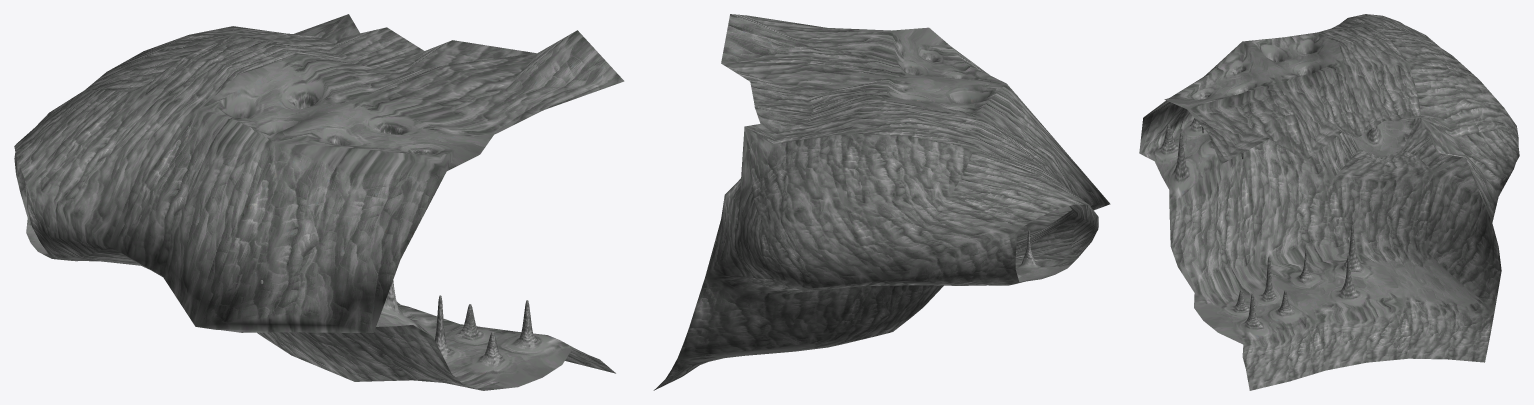
File: SWORDLIGHT20_PS-AREA05_03.fbx
3 renders of one model, left to right at view 1: azimuth 30°, elevation 25°; view 2: azimuth 150°, elevation 25°; view 3: azimuth 270°, elevation 25°, orthographic. The views are drawn at different scales.
Parts seen in each view (by area): view 1: SWORDLIGHT20_PS-AREA05_03; view 2: SWORDLIGHT20_PS-AREA05_03; view 3: SWORDLIGHT20_PS-AREA05_03.
Boxes of the visible parts, x1,y1,x2,y2 form: SWORDLIGHT20_PS-AREA05_03: (14,14,624,390); SWORDLIGHT20_PS-AREA05_03: (653,14,1110,390); SWORDLIGHT20_PS-AREA05_03: (1139,14,1519,390).
Bounding box in the file's own units: 269196 × 165802 × 234754.
6 materials, 6 textured.
